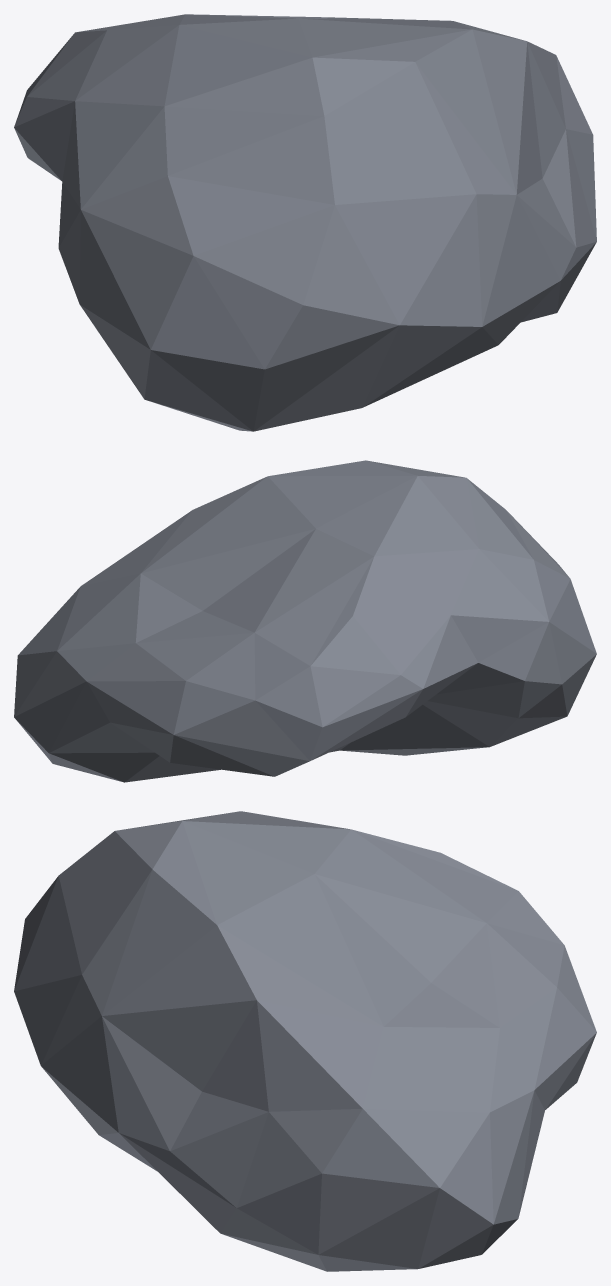
The model's file is mesh_rock_03.fbx.
3 views of the same model, one above another, from view 1: azimuth 30°, elevation 25°; view 2: azimuth 150°, elevation 25°; view 3: azimuth 270°, elevation 25° (orthographic). The views are drawn at different scales.
Parts seen in each view (by area): view 1: mesh_rock_03; view 2: mesh_rock_03; view 3: mesh_rock_03.
Part boxes in pixels (bbox=[...]): mesh_rock_03: bbox=[14, 14, 596, 431]; mesh_rock_03: bbox=[14, 460, 596, 782]; mesh_rock_03: bbox=[14, 811, 596, 1271].
Bounding box in the file's own units: 0.2332 × 0.1358 × 0.2223.
